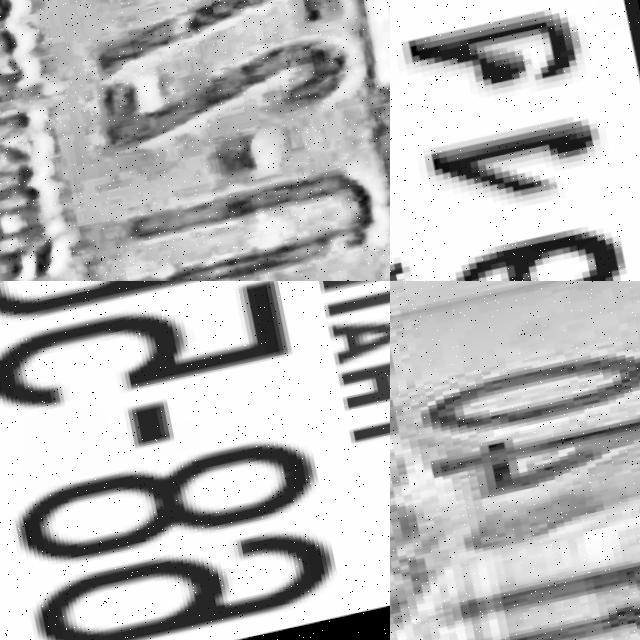license-plate: (0, 281, 390, 640), (0, 0, 390, 281), (390, 281, 640, 640), (390, 0, 640, 281)
